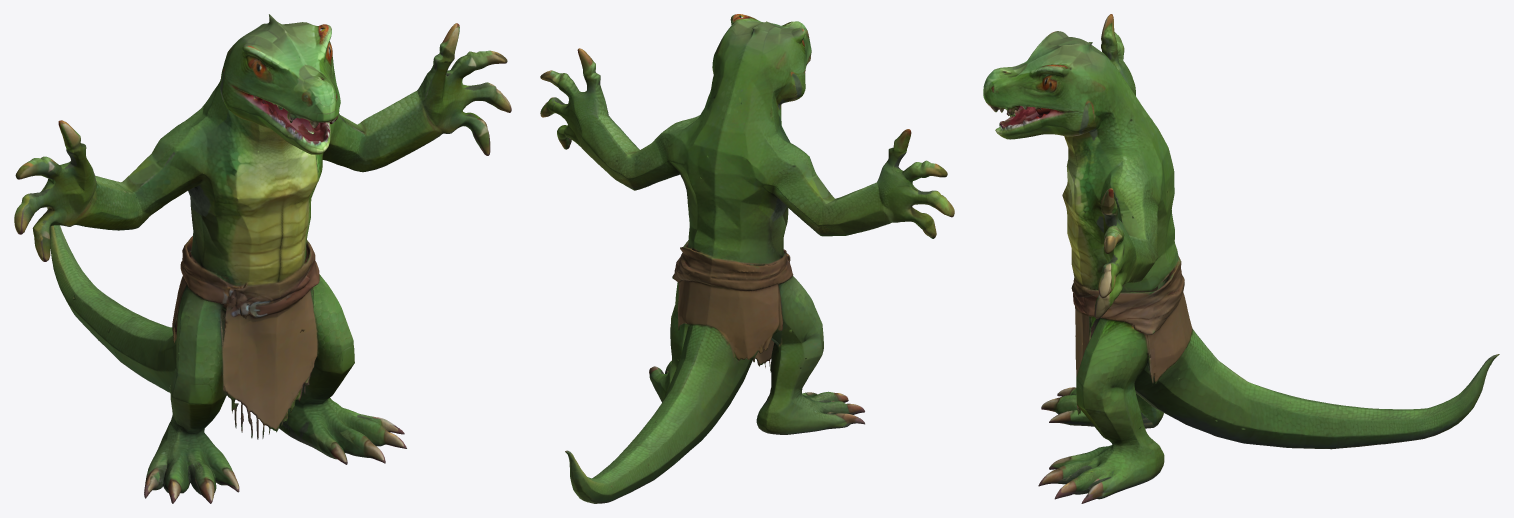
The model's file is LowPolyLizard.fbx.
3 views of the same model, side by side, from view 1: azimuth 30°, elevation 25°; view 2: azimuth 150°, elevation 25°; view 3: azimuth 270°, elevation 25° (orthographic). The views are drawn at different scales.
Parts seen in each view (by area): view 1: Mesh_0; view 2: Mesh_0; view 3: Mesh_0.
Part boxes in pixels (x1,y1,x2,y2): Mesh_0: [14, 14, 511, 503]; Mesh_0: [540, 14, 954, 503]; Mesh_0: [983, 14, 1499, 503].
Size of the model in its own units: 115 by 100 by 115.
Materials: 1 (1 with a texture image).
